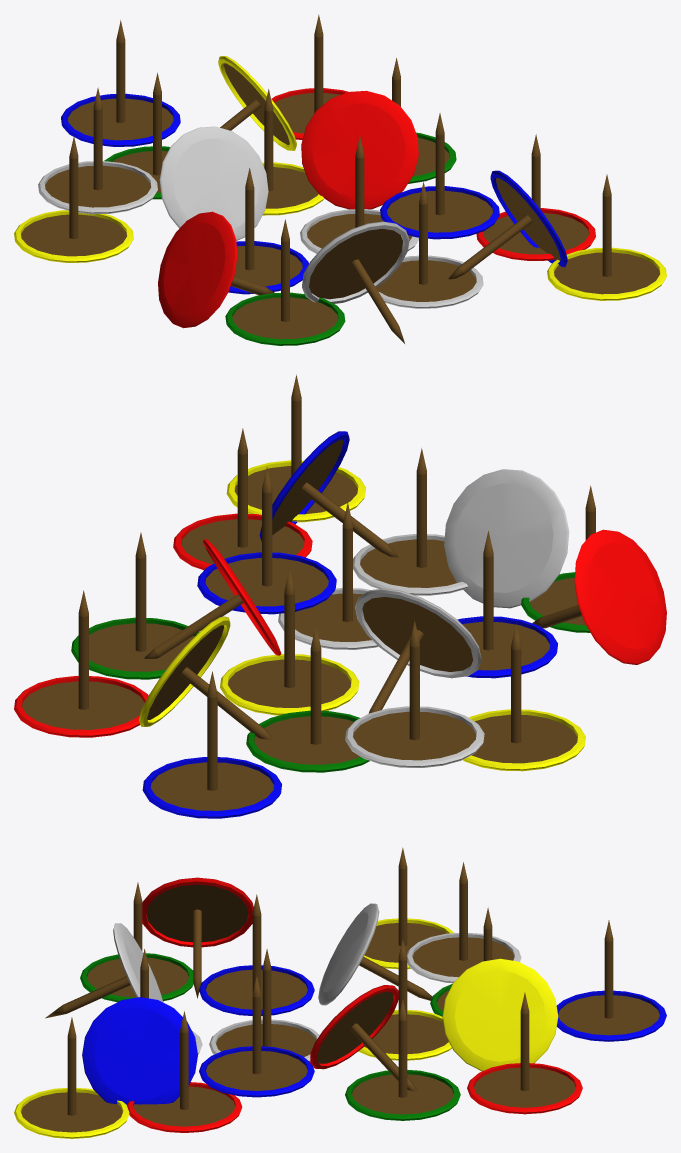
The model's file is Punes.obj.
3 renders of one model, top to bottom at view 1: azimuth 30°, elevation 25°; view 2: azimuth 150°, elevation 25°; view 3: azimuth 270°, elevation 25°, orthographic. The views are drawn at different scales.
Visible parts, largest first — view 1: Punes; view 2: Punes; view 3: Punes.
Part boxes in pixels (x1,y1,x2,y2): Punes: (14, 14, 666, 345); Punes: (14, 374, 666, 818); Punes: (14, 847, 666, 1138).
Size of the model in its own units: 1.66 by 0.4241 by 2.1.
